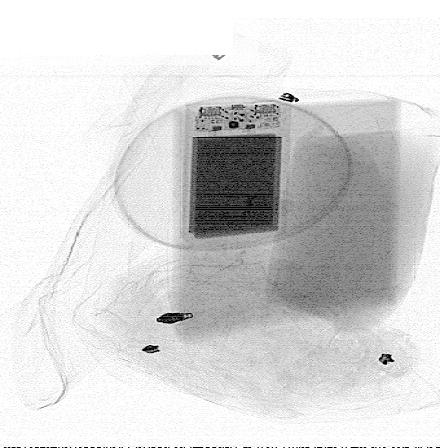Powerbank: (182, 98, 287, 245)
